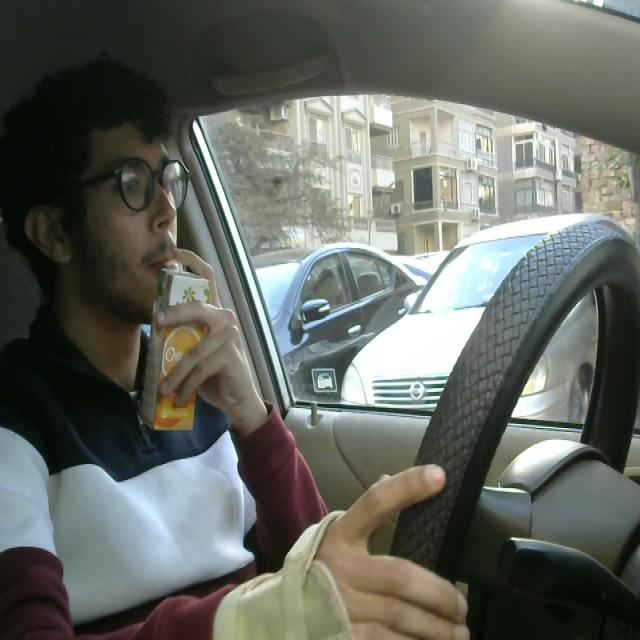drinking: (143, 257, 213, 440)
